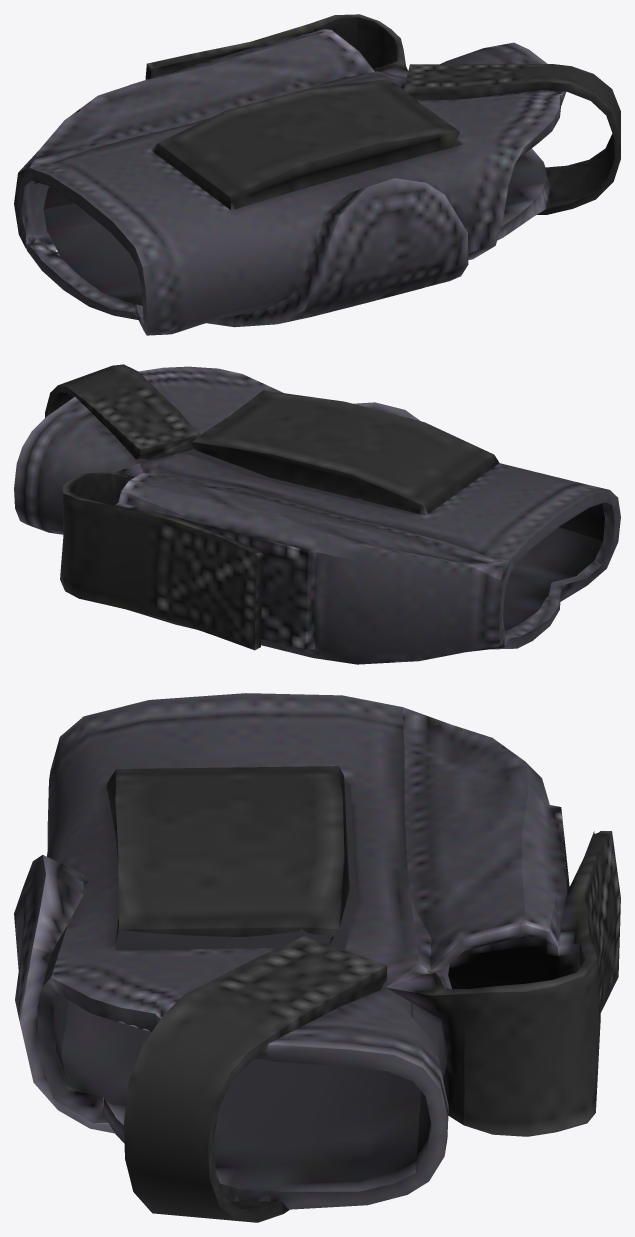
Rendered from DELTA_R.fbx.
The picture shows the model from 3 angles, top to bottom: view 1: azimuth 30°, elevation 25°; view 2: azimuth 150°, elevation 25°; view 3: azimuth 270°, elevation 25°; orthographic projection. The views are drawn at different scales.
Visible parts, largest first — view 1: Operator_Delta_MolleHolster.001; view 2: Operator_Delta_MolleHolster.001; view 3: Operator_Delta_MolleHolster.001.
Boxes of the visible parts, x1=… form: Operator_Delta_MolleHolster.001: x1=14, y1=14, x2=620, y2=335; Operator_Delta_MolleHolster.001: x1=14, y1=364, x2=620, y2=664; Operator_Delta_MolleHolster.001: x1=14, y1=693, x2=620, y2=1222.
Size of the model in its own units: 0.1669 by 0.0468 by 0.1068.
